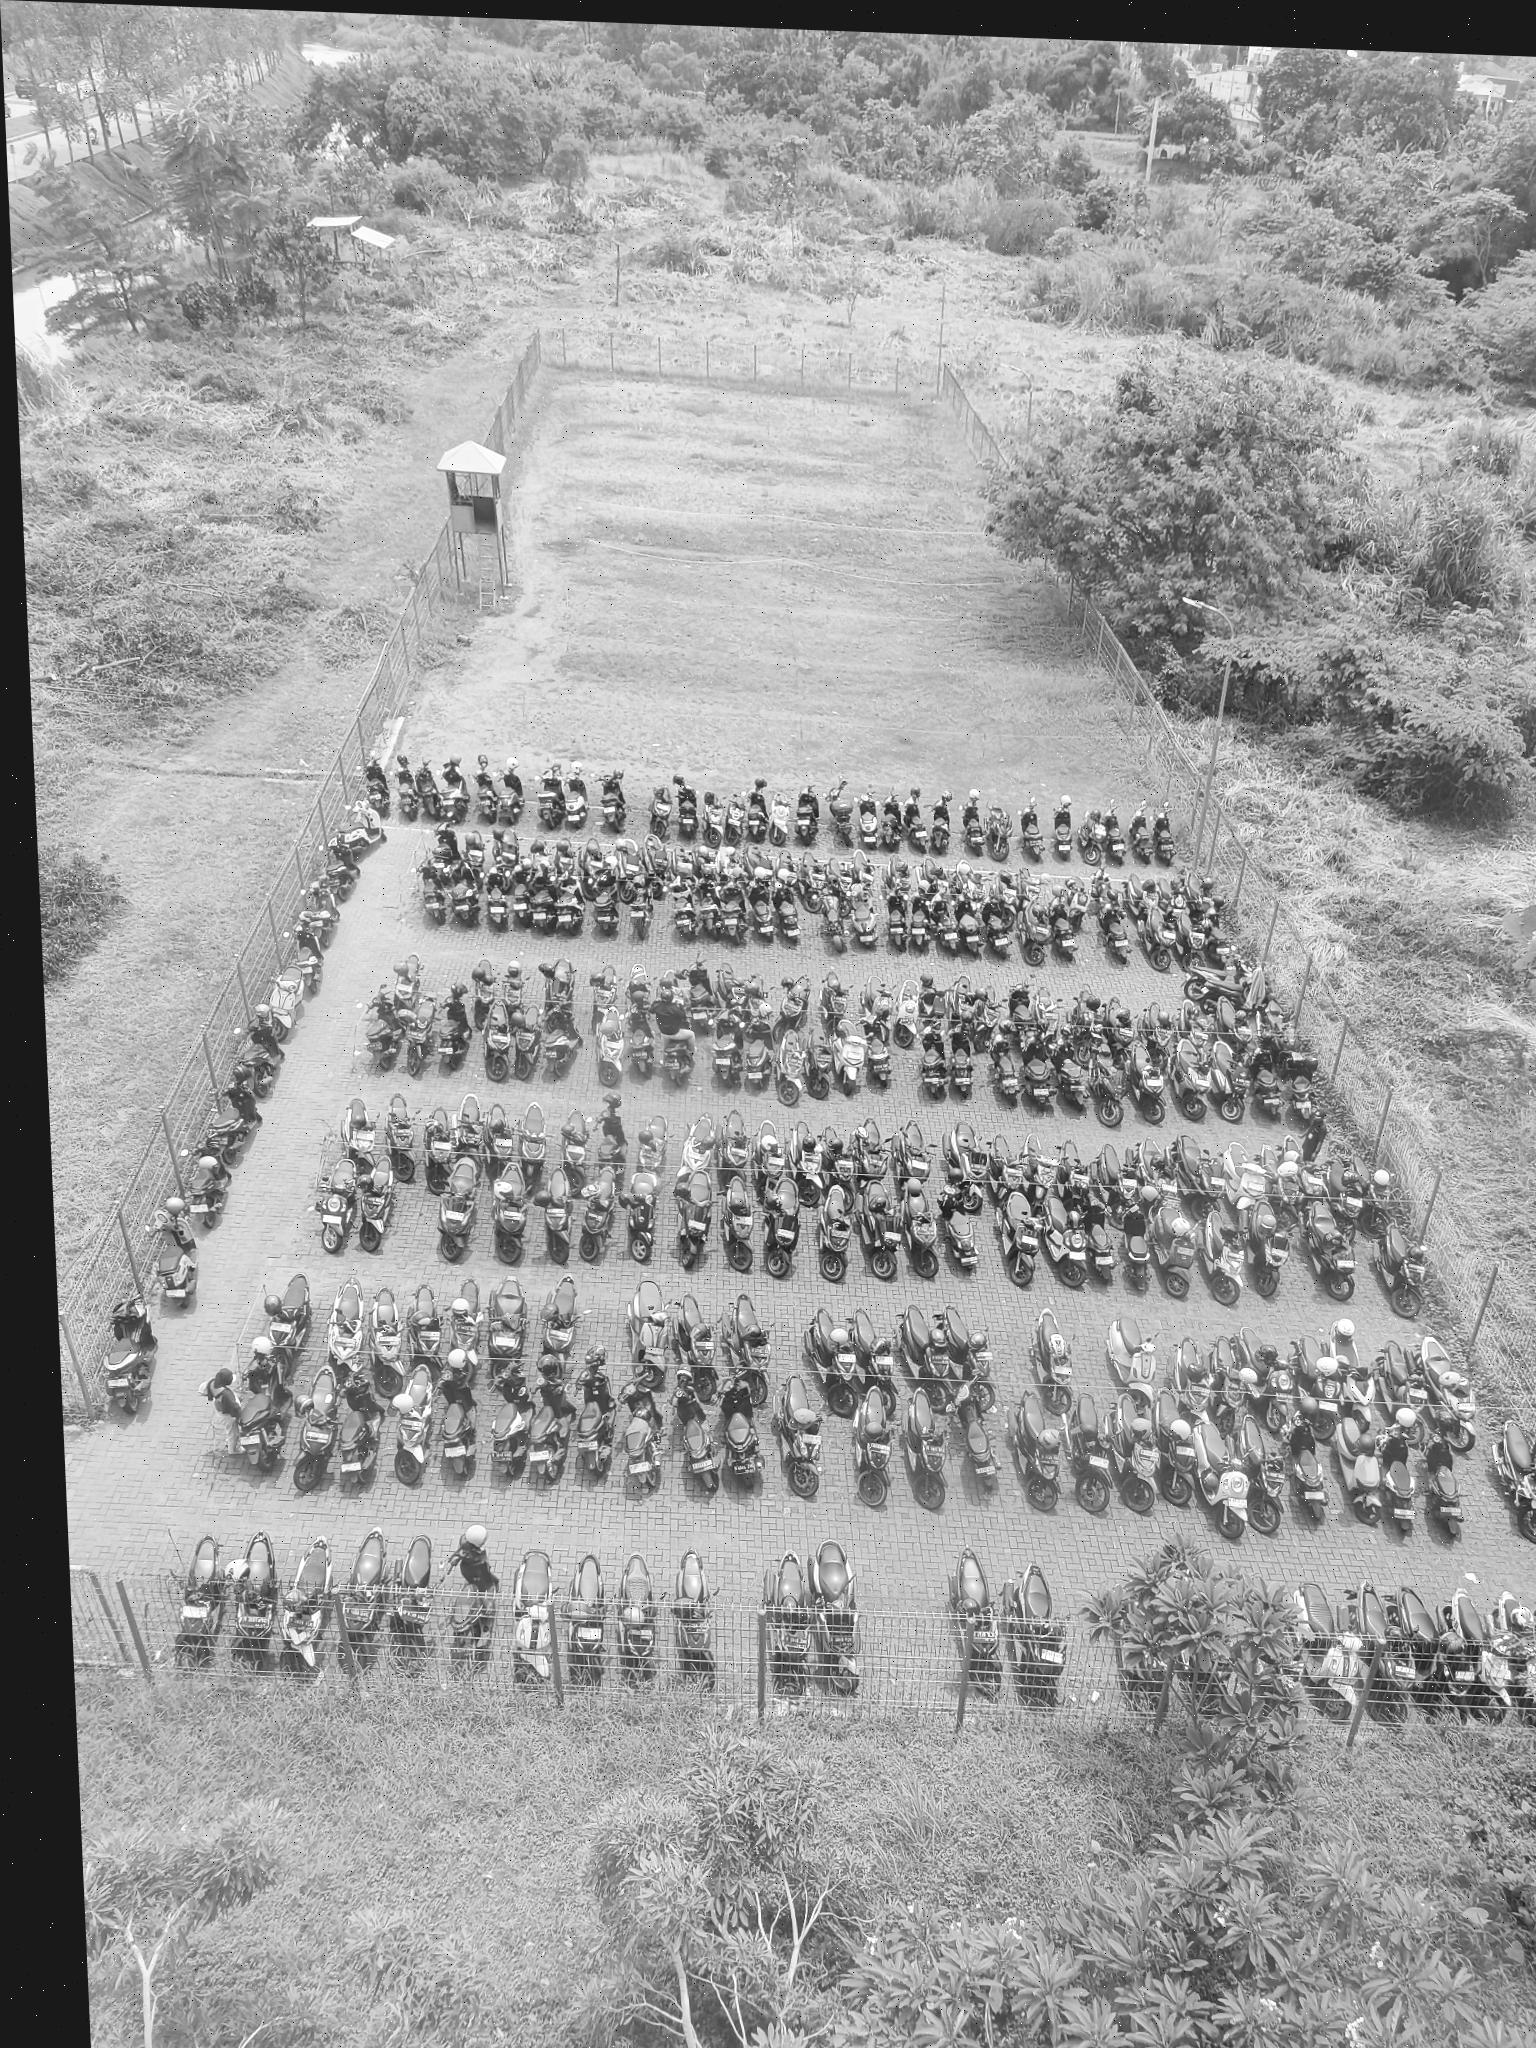motor: (1334, 1572, 1420, 1728), (997, 1545, 1074, 1710), (945, 1542, 1014, 1710), (1287, 1577, 1364, 1726), (1396, 1580, 1477, 1719), (803, 1538, 867, 1708), (750, 1545, 820, 1700), (659, 1548, 730, 1696), (501, 1539, 566, 1699), (1444, 1585, 1516, 1725), (439, 1525, 504, 1679), (222, 1525, 286, 1680), (1099, 1384, 1165, 1516), (561, 1544, 616, 1697), (1055, 1389, 1119, 1520), (279, 1530, 336, 1675), (606, 1545, 665, 1684), (167, 1534, 226, 1672), (768, 1372, 830, 1501), (331, 1532, 389, 1669), (1003, 1387, 1066, 1512), (1190, 1419, 1251, 1546), (387, 1530, 440, 1676), (98, 1291, 159, 1416), (945, 1375, 1008, 1494), (1231, 1326, 1300, 1434), (800, 1301, 864, 1416), (712, 1371, 773, 1491), (891, 1302, 956, 1414), (1418, 1334, 1478, 1452), (717, 1287, 776, 1406), (900, 1387, 956, 1512), (1148, 1383, 1202, 1511), (1234, 1412, 1288, 1539), (1023, 1304, 1083, 1418), (1487, 1417, 1536, 1555), (431, 1359, 486, 1480), (239, 1352, 293, 1475), (147, 1200, 206, 1312), (1324, 1315, 1380, 1433), (335, 1368, 387, 1495), (1298, 1199, 1361, 1303), (938, 1302, 999, 1408), (843, 1304, 899, 1419), (667, 1374, 722, 1491), (1418, 1419, 1472, 1538), (293, 1362, 340, 1498), (1329, 1412, 1385, 1526), (1281, 1408, 1336, 1524), (1288, 1329, 1343, 1444), (621, 1277, 675, 1392), (671, 1287, 725, 1402), (1371, 1219, 1430, 1321), (362, 1281, 412, 1401), (1371, 1340, 1429, 1443), (260, 1267, 314, 1377), (320, 1269, 370, 1387), (525, 1371, 576, 1486), (431, 1157, 483, 1268), (1193, 1207, 1249, 1310), (487, 1362, 535, 1481), (618, 1374, 668, 1488), (849, 1389, 899, 1502), (392, 1363, 438, 1485), (992, 1189, 1048, 1289), (536, 1273, 587, 1381), (852, 1178, 905, 1281), (311, 1156, 365, 1257), (1171, 1127, 1228, 1222), (894, 1178, 945, 1283), (206, 1076, 266, 1165), (1377, 1422, 1423, 1537), (183, 1133, 236, 1230), (1246, 1199, 1294, 1306), (1041, 1193, 1095, 1288), (403, 1279, 449, 1390), (351, 1154, 401, 1256), (486, 1273, 531, 1386), (1103, 1315, 1162, 1401), (934, 1184, 983, 1285), (1205, 1332, 1253, 1435), (940, 1118, 990, 1216), (811, 1182, 858, 1286), (759, 1177, 807, 1278), (1218, 1134, 1272, 1223), (1072, 1183, 1121, 1281), (672, 1170, 720, 1270), (1149, 1208, 1201, 1300), (444, 1276, 487, 1385), (489, 1162, 533, 1267), (577, 1363, 619, 1473), (537, 1166, 582, 1267), (1162, 1335, 1218, 1416), (620, 1170, 667, 1265), (1116, 1196, 1160, 1296), (239, 1004, 283, 1100), (1349, 1150, 1396, 1239), (1089, 1139, 1141, 1219), (718, 1176, 760, 1274), (763, 967, 818, 1041), (1255, 1138, 1300, 1225), (1124, 1041, 1170, 1126), (749, 1112, 789, 1209), (1168, 1037, 1212, 1124), (1279, 1130, 1328, 1208), (418, 1101, 457, 1196), (1048, 1029, 1091, 1115), (578, 1165, 616, 1262), (1086, 1044, 1130, 1127), (590, 1093, 631, 1181), (1016, 1133, 1065, 1206), (816, 1124, 857, 1211), (1136, 1136, 1180, 1217), (888, 1117, 936, 1191), (362, 988, 404, 1071), (265, 963, 310, 1040), (1207, 1041, 1249, 1123), (784, 1119, 822, 1209), (383, 1092, 420, 1184), (1018, 1030, 1058, 1115), (1243, 1043, 1286, 1122), (298, 875, 342, 952), (514, 1096, 552, 1185), (338, 1095, 380, 1175), (1323, 1152, 1364, 1233), (556, 1105, 592, 1196), (985, 1020, 1022, 1108), (437, 987, 476, 1070), (709, 1004, 747, 1088), (480, 1097, 517, 1182), (713, 1108, 750, 1193), (334, 798, 387, 857), (1066, 988, 1105, 1066), (849, 1115, 893, 1184), (677, 1106, 718, 1180), (591, 1005, 627, 1089), (451, 1087, 485, 1175), (318, 834, 361, 903), (987, 1132, 1026, 1208), (545, 1002, 582, 1081), (831, 1017, 867, 1098), (511, 1000, 547, 1081), (1137, 903, 1178, 974), (404, 992, 439, 1075), (625, 998, 659, 1083), (1498, 1591, 1536, 1667), (631, 1111, 670, 1185), (856, 971, 896, 1043), (772, 1027, 807, 1109), (1100, 991, 1136, 1070), (680, 958, 718, 1032), (582, 957, 621, 1029), (1054, 1137, 1093, 1209), (1002, 975, 1040, 1048), (1211, 995, 1254, 1059), (814, 967, 854, 1035), (479, 1000, 512, 1081), (846, 877, 882, 951), (447, 856, 483, 930), (1138, 1000, 1174, 1073), (1284, 1051, 1321, 1122), (290, 921, 325, 996), (943, 1020, 977, 1097), (814, 881, 850, 953), (716, 870, 751, 944), (1256, 999, 1303, 1054), (664, 869, 702, 937), (386, 948, 424, 1016), (804, 1021, 836, 1101), (858, 1014, 894, 1085), (588, 865, 622, 940), (1015, 899, 1053, 966), (745, 1010, 775, 1093), (414, 857, 449, 928), (916, 1020, 947, 1100), (745, 868, 778, 943), (1170, 910, 1208, 975), (770, 876, 805, 946), (925, 889, 961, 957), (1094, 899, 1132, 963), (978, 894, 1014, 961), (947, 972, 979, 1046), (1047, 894, 1081, 963), (553, 866, 586, 937), (880, 880, 911, 955), (956, 788, 988, 860), (528, 866, 560, 938), (468, 957, 498, 1033), (469, 755, 502, 824), (541, 957, 576, 1022), (825, 777, 857, 848), (596, 769, 632, 832), (1173, 1000, 1212, 1058), (389, 755, 422, 823), (891, 977, 922, 1049), (953, 892, 986, 959), (918, 974, 950, 1043), (482, 861, 512, 934), (628, 871, 659, 941), (671, 772, 703, 839), (495, 757, 526, 826), (694, 868, 724, 939), (899, 788, 931, 854), (1200, 905, 1234, 967), (851, 785, 883, 850), (983, 798, 1015, 863), (715, 958, 748, 1021), (490, 824, 521, 891), (1120, 870, 1161, 920), (1015, 799, 1047, 862), (974, 980, 1002, 1052), (500, 959, 531, 1024), (538, 765, 568, 832), (506, 859, 536, 926), (438, 759, 470, 821), (562, 764, 591, 832), (1036, 981, 1063, 1054), (927, 791, 957, 856), (1126, 799, 1156, 864), (1050, 793, 1078, 862), (1076, 806, 1107, 867), (791, 783, 821, 846), (643, 782, 675, 841), (700, 782, 728, 849), (1101, 801, 1130, 865), (907, 889, 935, 953), (1152, 802, 1179, 867), (413, 763, 443, 821), (614, 838, 641, 902), (360, 758, 390, 815), (746, 777, 772, 841), (882, 852, 912, 907), (462, 828, 488, 891), (992, 869, 1020, 926), (642, 837, 669, 896), (1065, 873, 1092, 932), (1182, 868, 1215, 915), (825, 857, 852, 914), (951, 858, 989, 898), (626, 961, 653, 1017), (429, 817, 461, 864), (880, 788, 904, 850), (1091, 864, 1120, 913), (800, 850, 823, 911), (725, 791, 748, 847), (915, 854, 947, 894), (668, 845, 694, 894), (768, 790, 791, 845), (742, 842, 771, 882), (850, 850, 877, 891), (1018, 867, 1042, 913), (771, 847, 802, 881), (529, 833, 554, 873), (579, 837, 606, 874), (715, 847, 742, 883), (691, 843, 717, 880), (553, 836, 575, 877), (1154, 873, 1184, 900), (1529, 1580, 1536, 1660)
